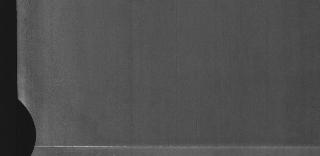welding line: (33, 142, 320, 152)
